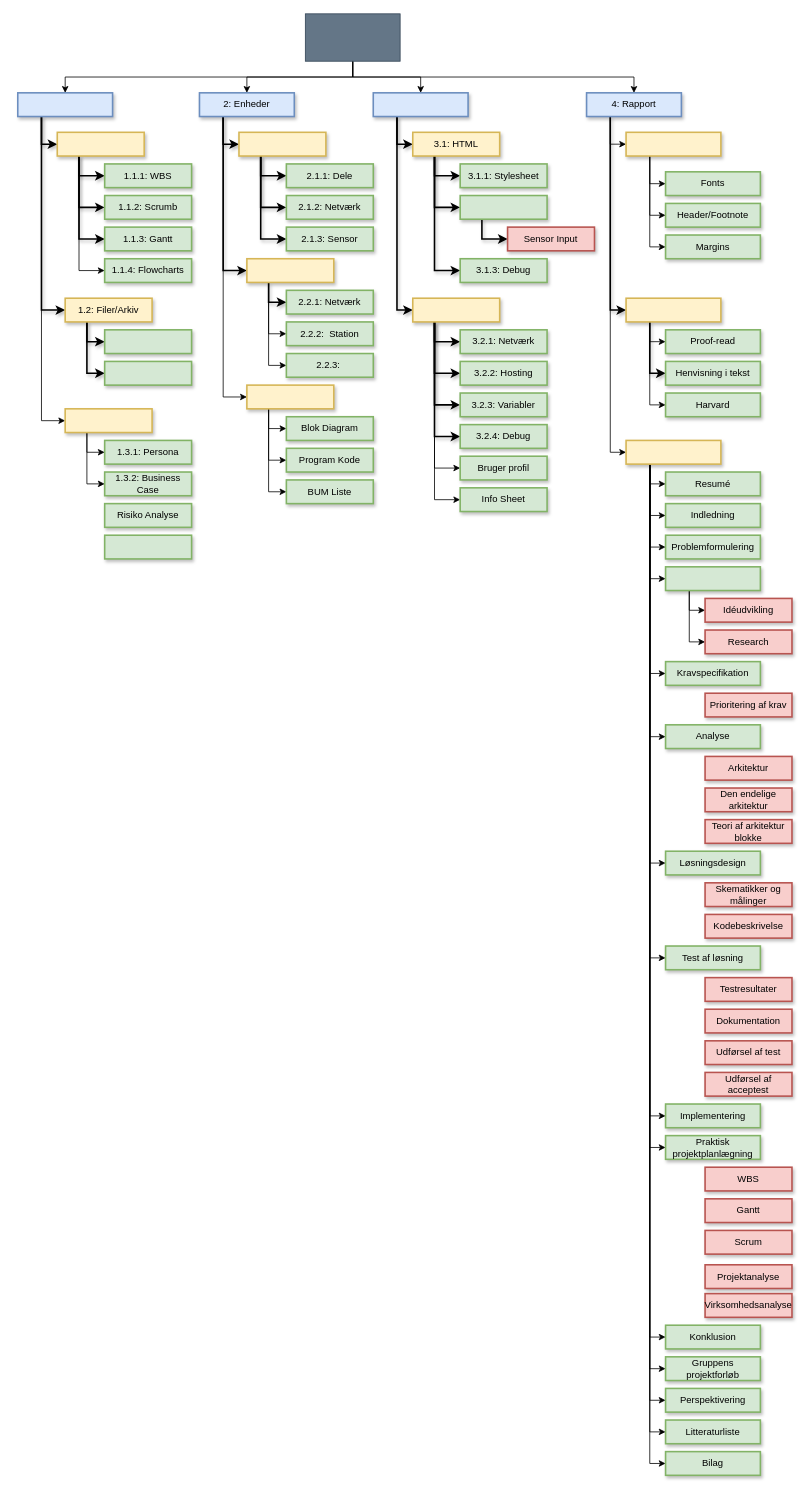
Some shapes in this 811 by 1495 pixel diagram are drawn without their labels. Each missing label, with the centre of its shape:
1.1: Værktøjer: the point at 101,145
1.2.1: Discord: the point at 148,342
1.2.2: Github: the point at 148,374
1.3: Målgruppe?: the point at 109,421
1: Pre-produktion: the point at 65,105
2.1: ESP 32: the point at 283,145
2.2: Raspberry: the point at 291,271
2.3: Diagrammer: the point at 291,398
3.1.2: Data: the point at 504,208
3.2: Flask/Python: the point at 456,311
3: Website: the point at 421,105
4.1: Layout: the point at 674,145
4.2: Kildehåndtering: the point at 674,311
4.3: Kapitler: the point at 674,453
Indledende Undersøgelser: the point at 713,579
Project - Whistleblower: the point at 352,37
